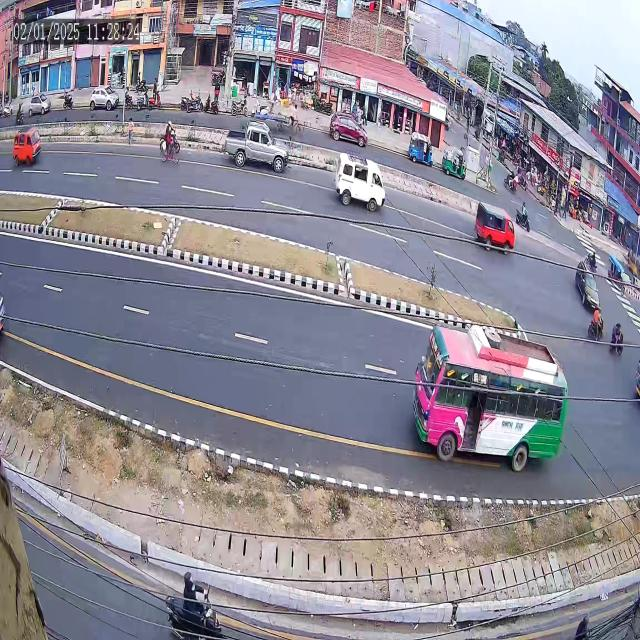bus: (401, 309, 572, 489)
motorcycle: (609, 316, 627, 362)
van: (328, 144, 389, 224), (466, 194, 517, 270), (8, 122, 46, 178)
